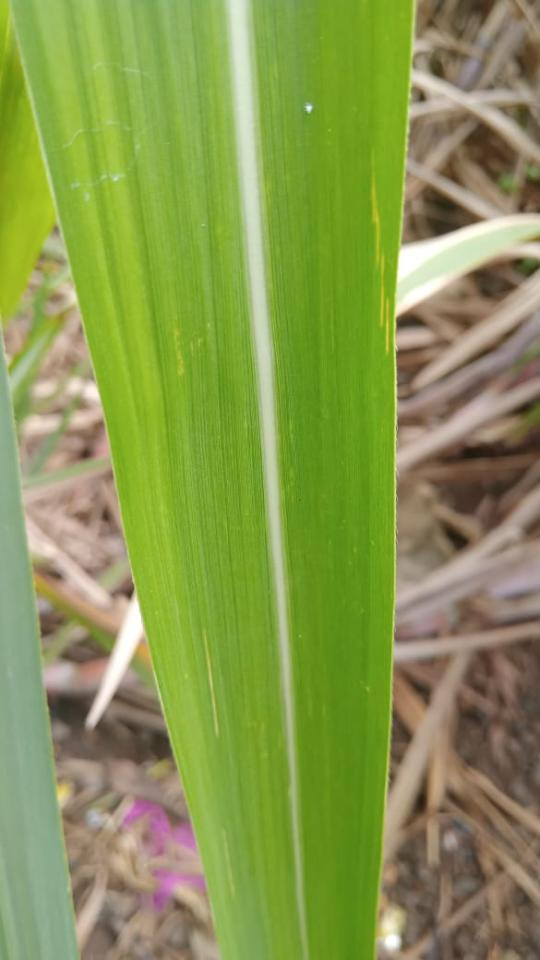Healthy: (12, 0, 412, 959)
